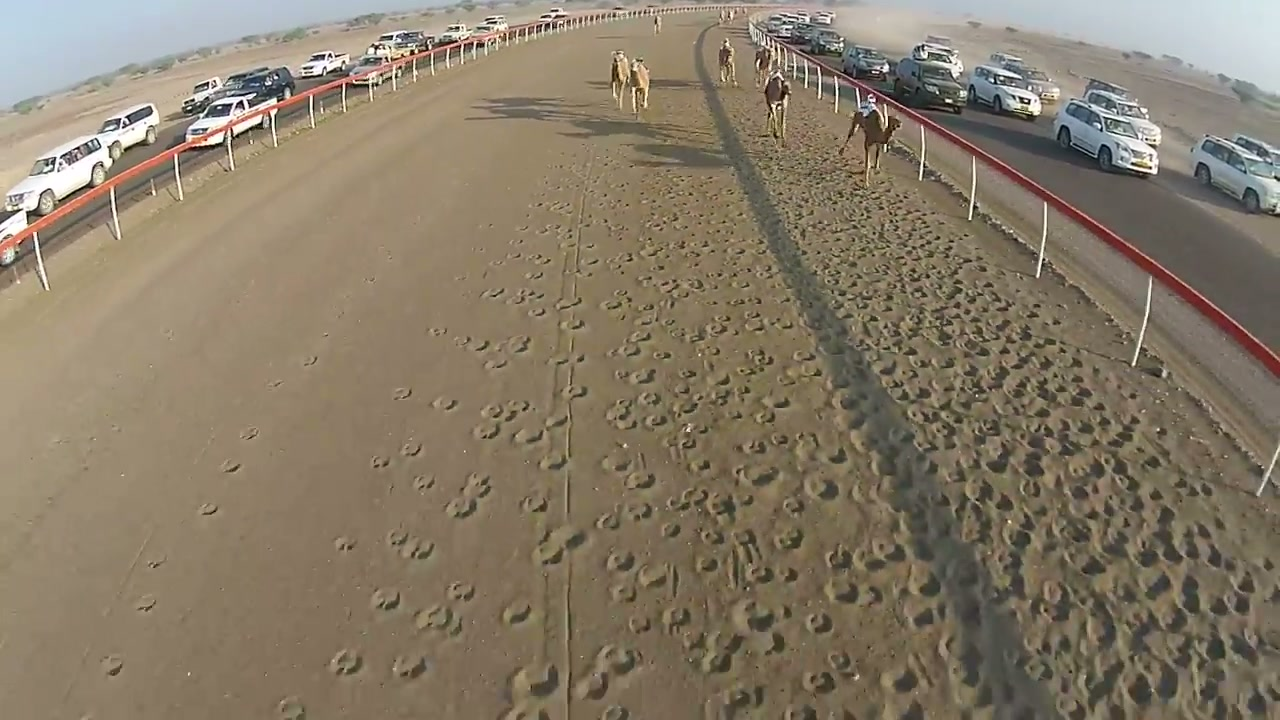animal_footprint: (112, 64, 1279, 719)
